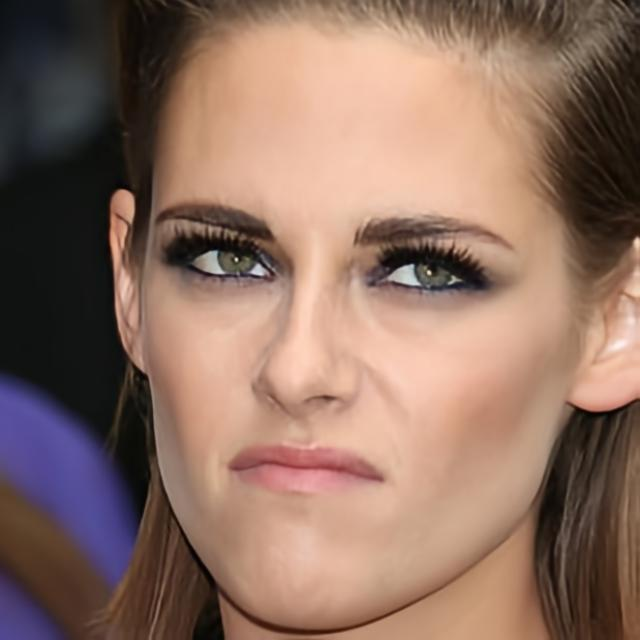disgust: (140, 4, 566, 631)
